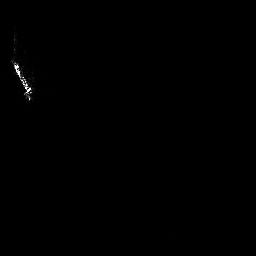ship: (9, 31, 33, 102)
